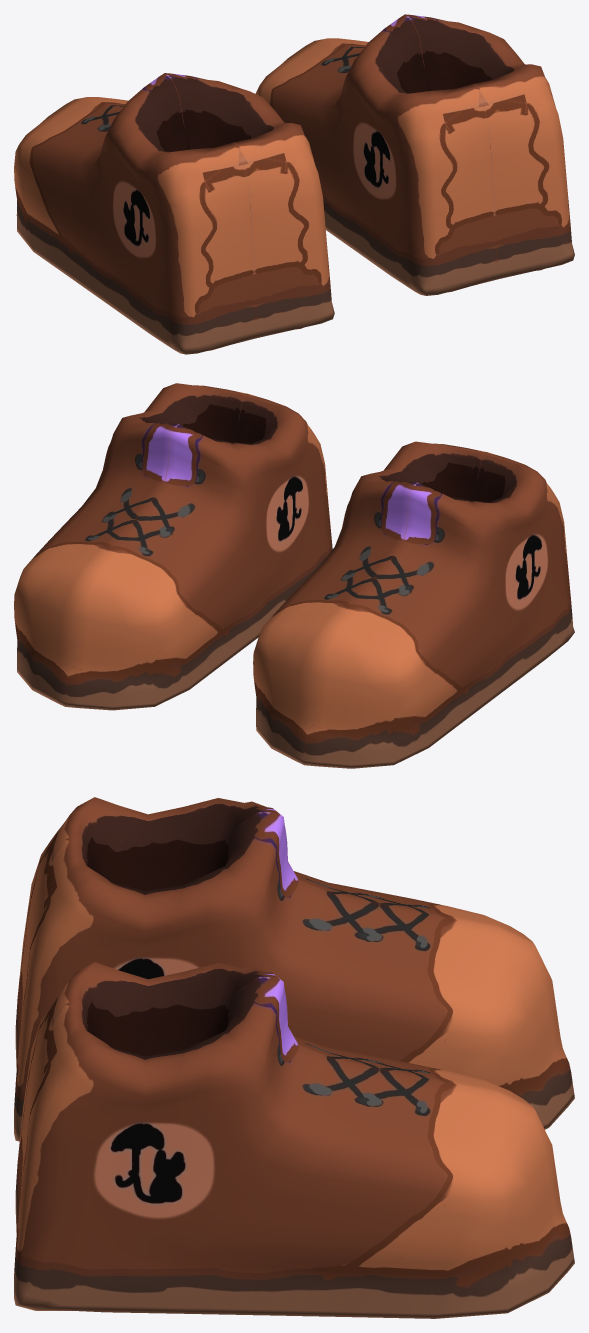
File: cartoonShoes.fbx
The picture shows the model from 3 angles, top to bottom: view 1: azimuth 30°, elevation 25°; view 2: azimuth 150°, elevation 25°; view 3: azimuth 270°, elevation 25°; orthographic projection. The views are drawn at different scales.
Visible parts, largest first — view 1: pCube4, pCube3; view 2: pCube4, pCube3; view 3: pCube3, pCube4.
Boxes of the visible parts, left/top/right/bottom form: pCube4: left=14, top=73, right=334, bottom=354; pCube3: left=255, top=14, right=574, bottom=295; pCube4: left=253, top=441, right=574, bottom=768; pCube3: left=14, top=383, right=332, bottom=710; pCube3: left=14, top=962, right=574, bottom=1318; pCube4: left=14, top=797, right=574, bottom=1141.
Size of the model in its own units: 2.82 by 1.37 by 2.4.
1 material, 1 textured.
